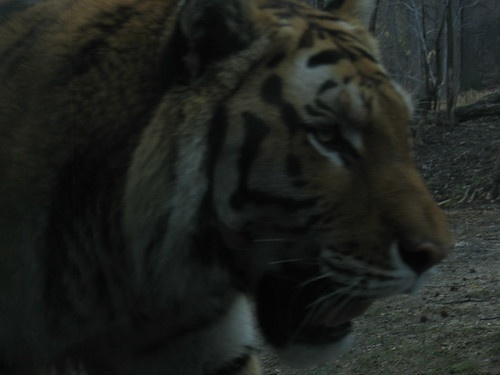tigre: (21, 1, 459, 365)
